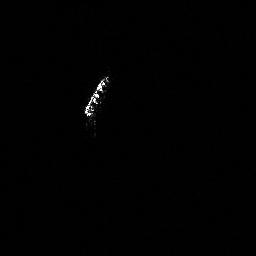ship: (80, 72, 112, 120)
